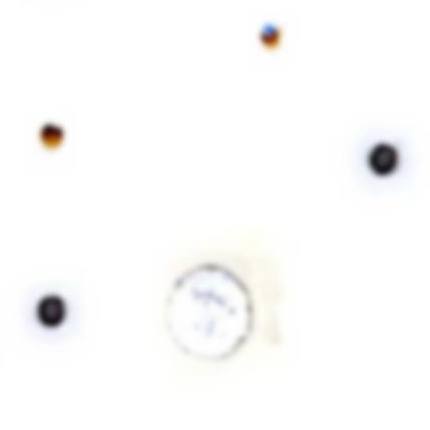abnormal: (125, 228, 300, 398)
cancer: (9, 271, 93, 348), (355, 128, 418, 196)
normal: (27, 109, 83, 167), (250, 16, 296, 62)
